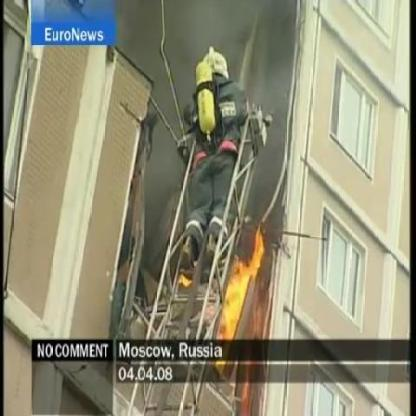fire: (217, 226, 267, 338), (178, 272, 192, 288)
